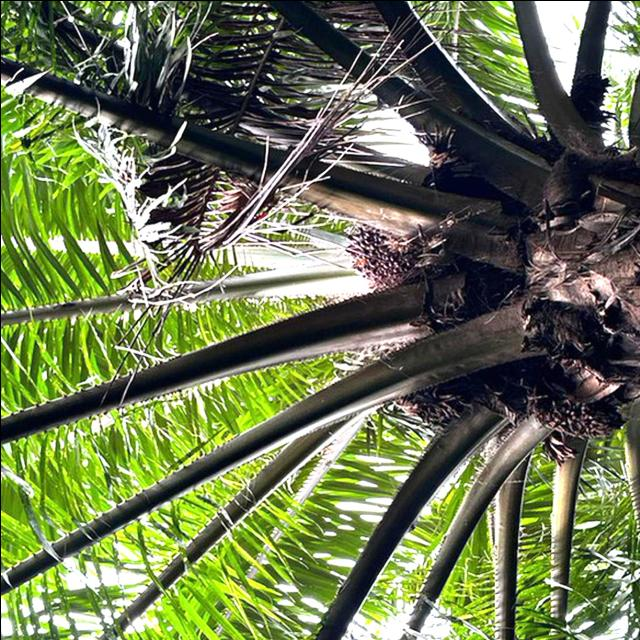ripe: (338, 223, 422, 296)
